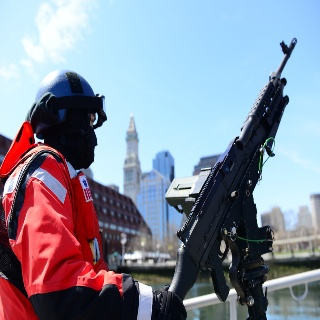rifle: (164, 35, 298, 320)
